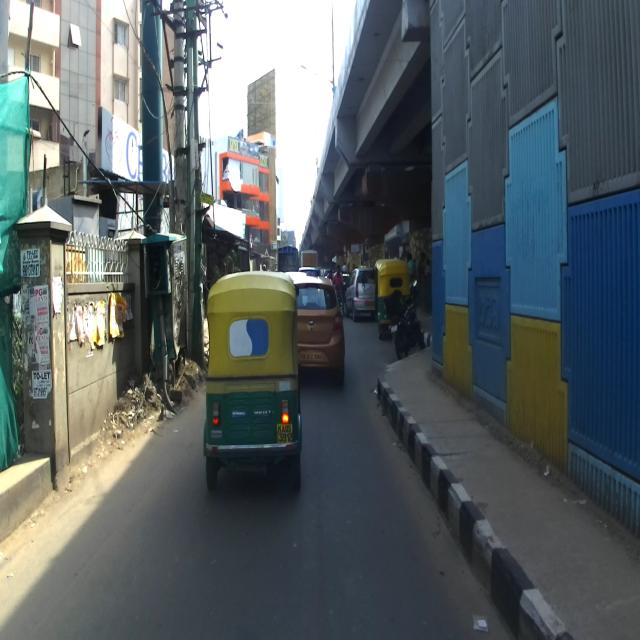auto ahead at: (204, 273, 304, 494)
car ahead at: (299, 267, 348, 381)
electric pole ahead at: (149, 0, 205, 381)
